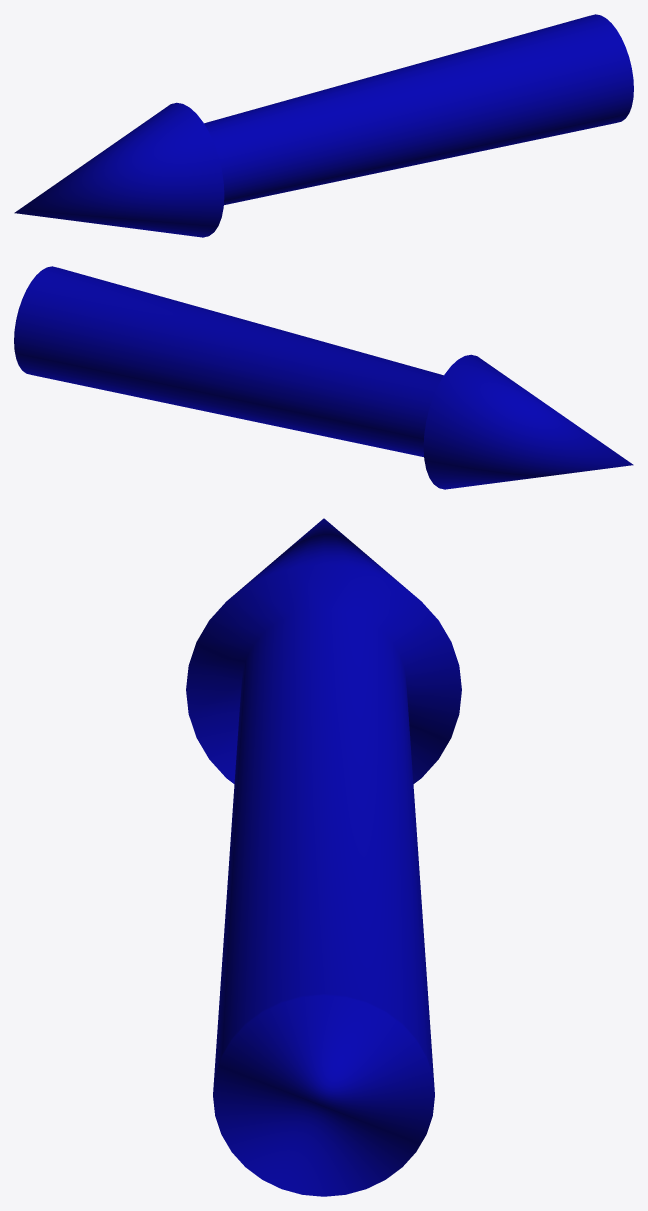
The model's file is arrow.obj.
3 views of the same model, one above another, from view 1: azimuth 30°, elevation 25°; view 2: azimuth 150°, elevation 25°; view 3: azimuth 270°, elevation 25° (orthographic). The views are drawn at different scales.
Parts seen in each view (by area): view 1: Cylinder; view 2: Cylinder; view 3: Cylinder.
Boxes of the visible parts, bbox=[...] form: Cylinder: bbox=[14, 14, 633, 237]; Cylinder: bbox=[14, 266, 633, 489]; Cylinder: bbox=[186, 518, 461, 1196].
Bounding box in the file's own units: 2.46 × 0.4974 × 0.4974.
